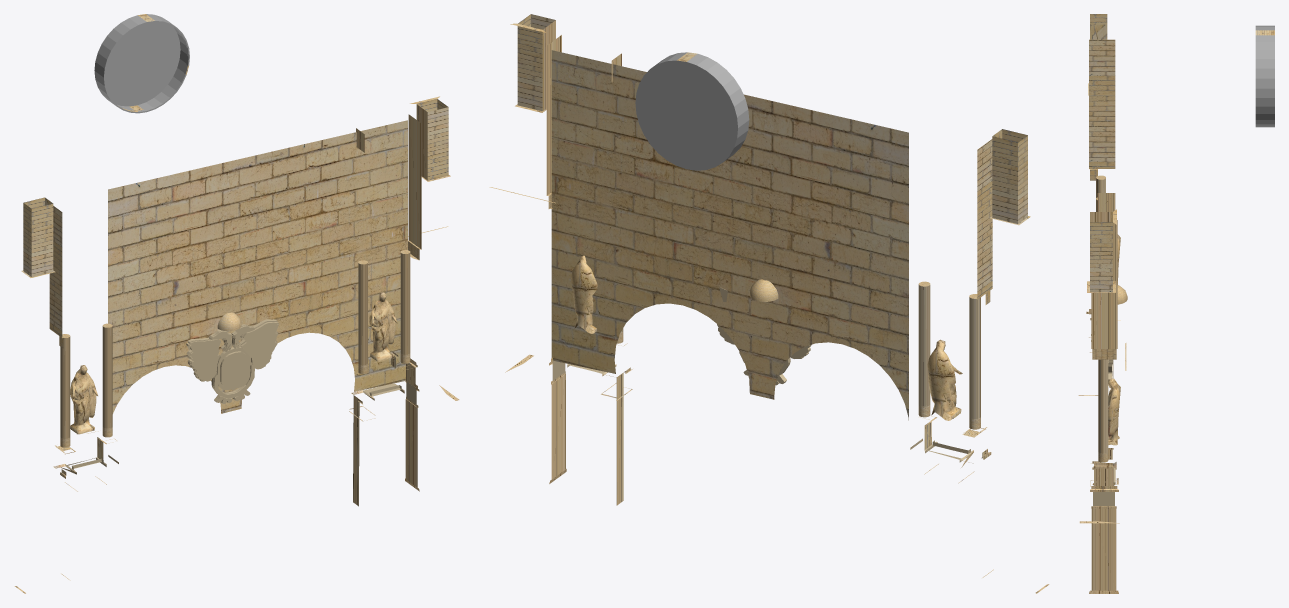
File: catedral4bx.fbx
The picture shows the model from 3 angles, left to right: view 1: azimuth 30°, elevation 25°; view 2: azimuth 150°, elevation 25°; view 3: azimuth 270°, elevation 25°; orthographic projection. The views are drawn at different scales.
Visible parts, largest first — view 1: Cube.026, Cube, Cylinder, largato.003, Jezus_statue.001, Jezus_statue; view 2: Cube.026, Cube, Cylinder, Jezus_statue.001, Jezus_statue, largato.003; view 3: Cube, Cylinder, Jezus_statue.
Boxes of the visible parts, left/top/right/bottom form: Cube.026: left=108, top=120, right=407, bottom=413; Cube: left=14, top=96, right=459, bottom=593; Cylinder: left=94, top=14, right=189, bottom=113; largato.003: left=186, top=312, right=278, bottom=403; Jezus_statue.001: left=70, top=365, right=97, bottom=434; Jezus_statue: left=369, top=292, right=397, bottom=361; Cube.026: left=551, top=50, right=908, bottom=420; Cube: left=489, top=14, right=1049, bottom=593; Cylinder: left=635, top=52, right=749, bottom=170; Jezus_statue.001: left=927, top=339, right=962, bottom=420; Jezus_statue: left=571, top=255, right=597, bottom=333; largato.003: left=717, top=279, right=811, bottom=385; Cube: left=1078, top=14, right=1126, bottom=593; Cylinder: left=1255, top=25, right=1274, bottom=127; Jezus_statue: left=1108, top=378, right=1120, bottom=445.
Bounding box in the file's own units: 4500 × 4452 × 1674.
